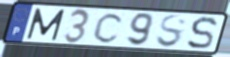3: (62, 7, 92, 45)
9: (124, 12, 155, 48)
C: (91, 11, 126, 45)
M: (25, 7, 67, 42)
S: (154, 14, 188, 50), (185, 15, 219, 51)
